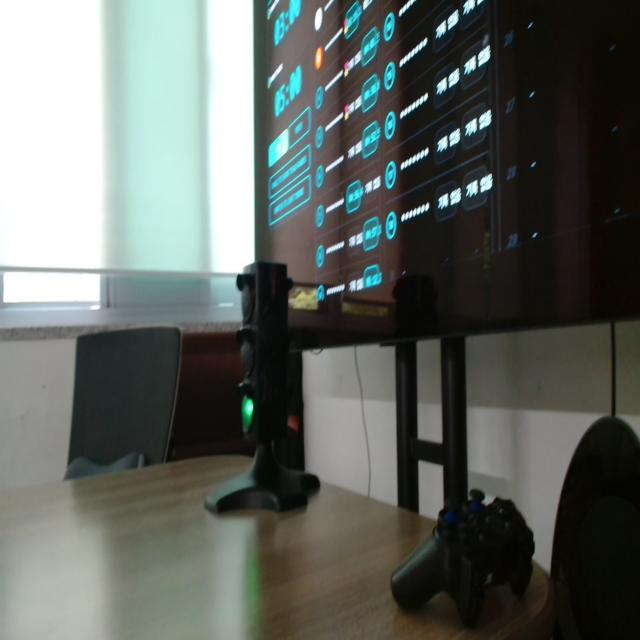green_light: (241, 397, 254, 433)
